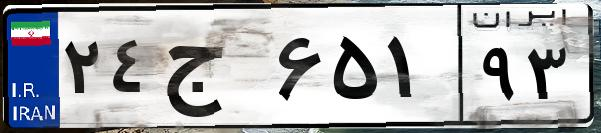1: (385, 28, 445, 110)
2: (57, 26, 110, 100)
3: (525, 38, 570, 115)
4: (110, 28, 158, 98)
5: (330, 28, 385, 110)
6: (270, 28, 330, 110)
9: (475, 38, 525, 113)
ج: (158, 20, 270, 120)
